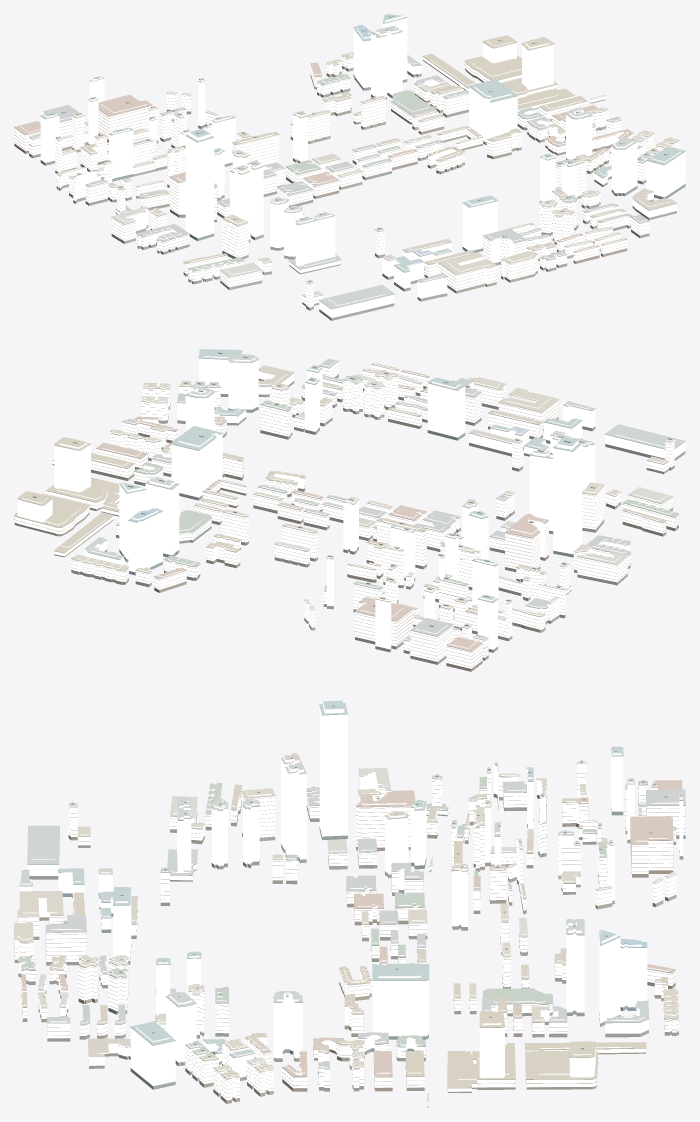
Rendered from buildings-2_3-fine.glb.
3 renders of one model, top to bottom at view 1: azimuth 30°, elevation 25°; view 2: azimuth 150°, elevation 25°; view 3: azimuth 270°, elevation 25°, orthographic. The views are drawn at different scales.
Visible parts, largest first — view 1: block_2_3_residential, block_2_3_office, block_2_3_roof, block_2_3_darkglass, block_2_3_concrete, block_2_3_steel; view 2: block_2_3_residential, block_2_3_office, block_2_3_roof, block_2_3_darkglass, block_2_3_concrete, block_2_3_steel; view 3: block_2_3_roof, block_2_3_residential, block_2_3_office, block_2_3_darkglass, block_2_3_concrete, block_2_3_steel.
Part boxes in pixels (x1,y1,x2,y2): block_2_3_residential: [14, 54, 679, 307]; block_2_3_office: [40, 16, 685, 317]; block_2_3_roof: [14, 14, 685, 308]; block_2_3_darkglass: [14, 60, 685, 320]; block_2_3_concrete: [14, 54, 679, 305]; block_2_3_steel: [41, 17, 685, 309]; block_2_3_residential: [14, 361, 678, 668]; block_2_3_office: [17, 350, 685, 649]; block_2_3_roof: [14, 349, 685, 668]; block_2_3_darkglass: [14, 374, 685, 671]; block_2_3_concrete: [14, 361, 678, 666]; block_2_3_steel: [17, 358, 685, 602]; block_2_3_roof: [14, 700, 685, 1101]; block_2_3_residential: [14, 762, 685, 1106]; block_2_3_office: [19, 702, 683, 1086]; block_2_3_darkglass: [14, 793, 685, 1107]; block_2_3_concrete: [15, 763, 685, 1102]; block_2_3_steel: [20, 714, 683, 1058].
Bounding box in the file's own units: 660 × 127 × 595.
